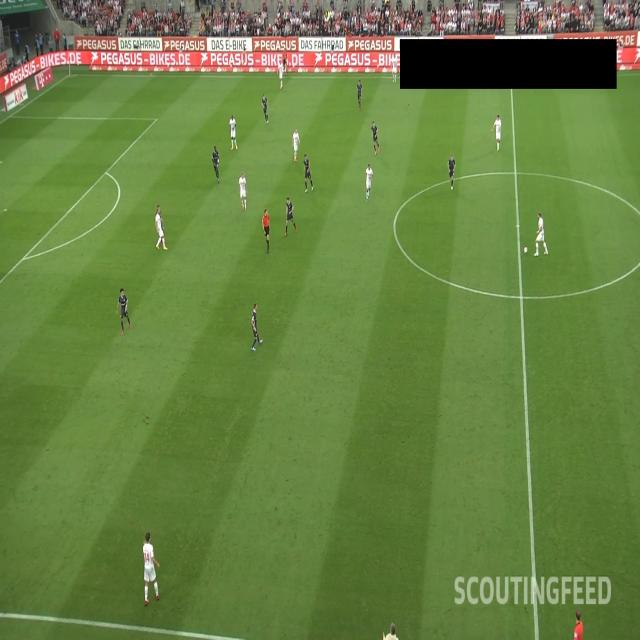ball: (524, 247, 528, 254)
